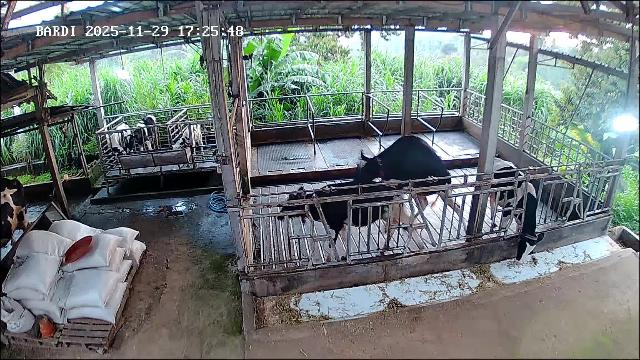mounting: (353, 135, 459, 240)
